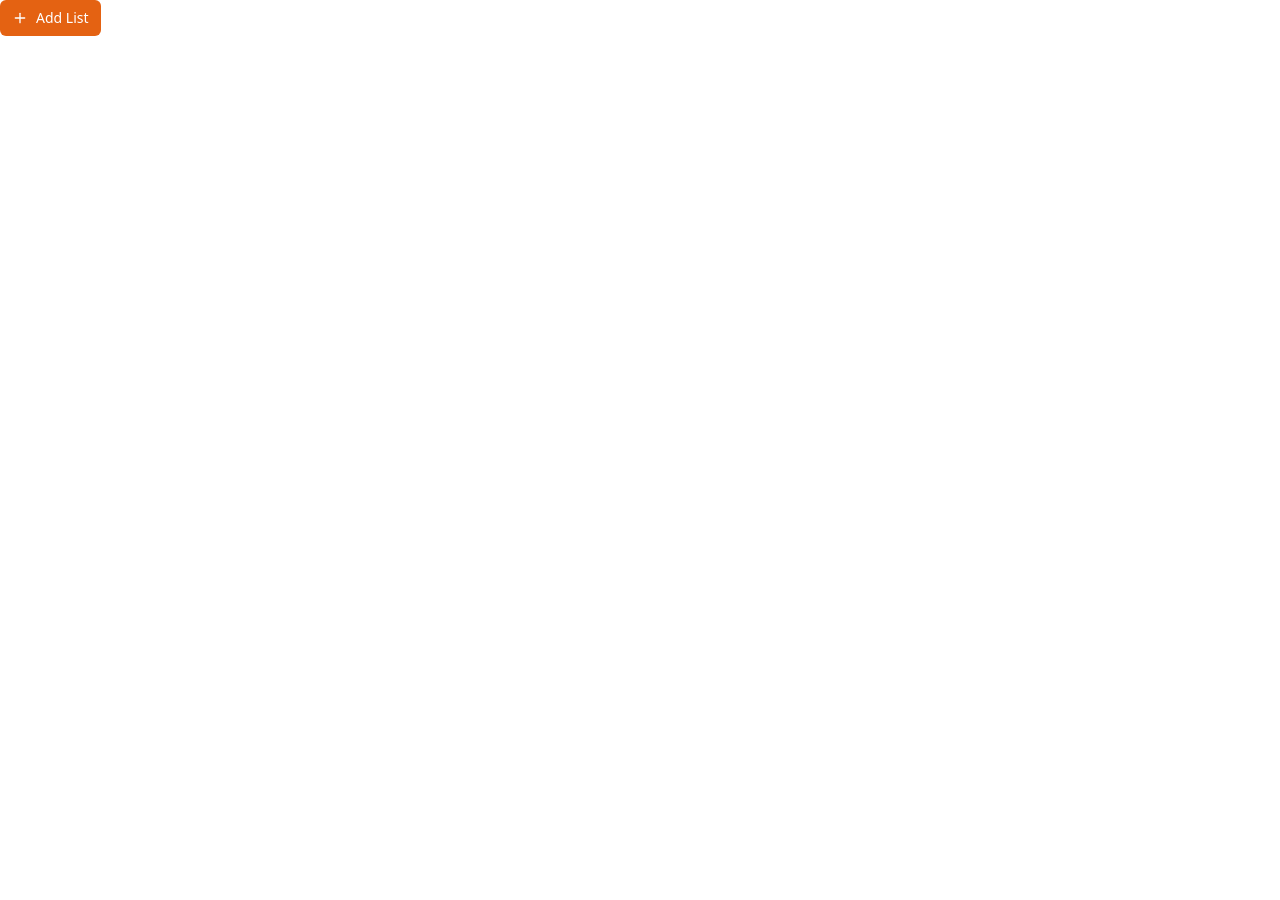
it: CreateListDialog › closes dialog when cancel button is clicked
What coordinates should you click on to do the following:
click the button "Add List"
I would click on:
 (50, 18)
Its box is x1=0 y1=0 x2=100 y2=36.
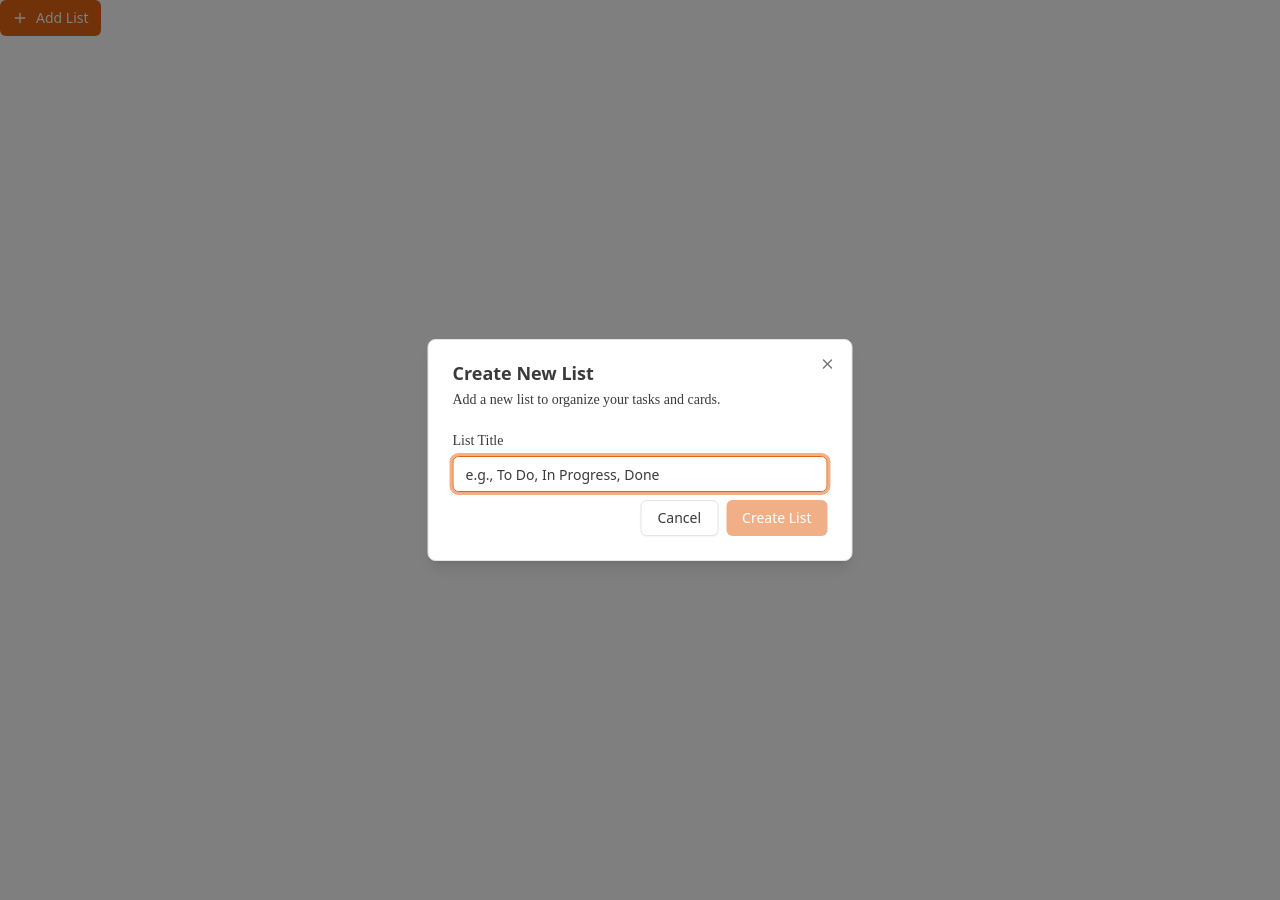
Result: the dialog is shown at x1=428 y1=339 x2=852 y2=561
What coordinates should you click on to do the following:
click the button "Cancel"
I would click on:
 (679, 518)
Its box is x1=640 y1=500 x2=718 y2=536.
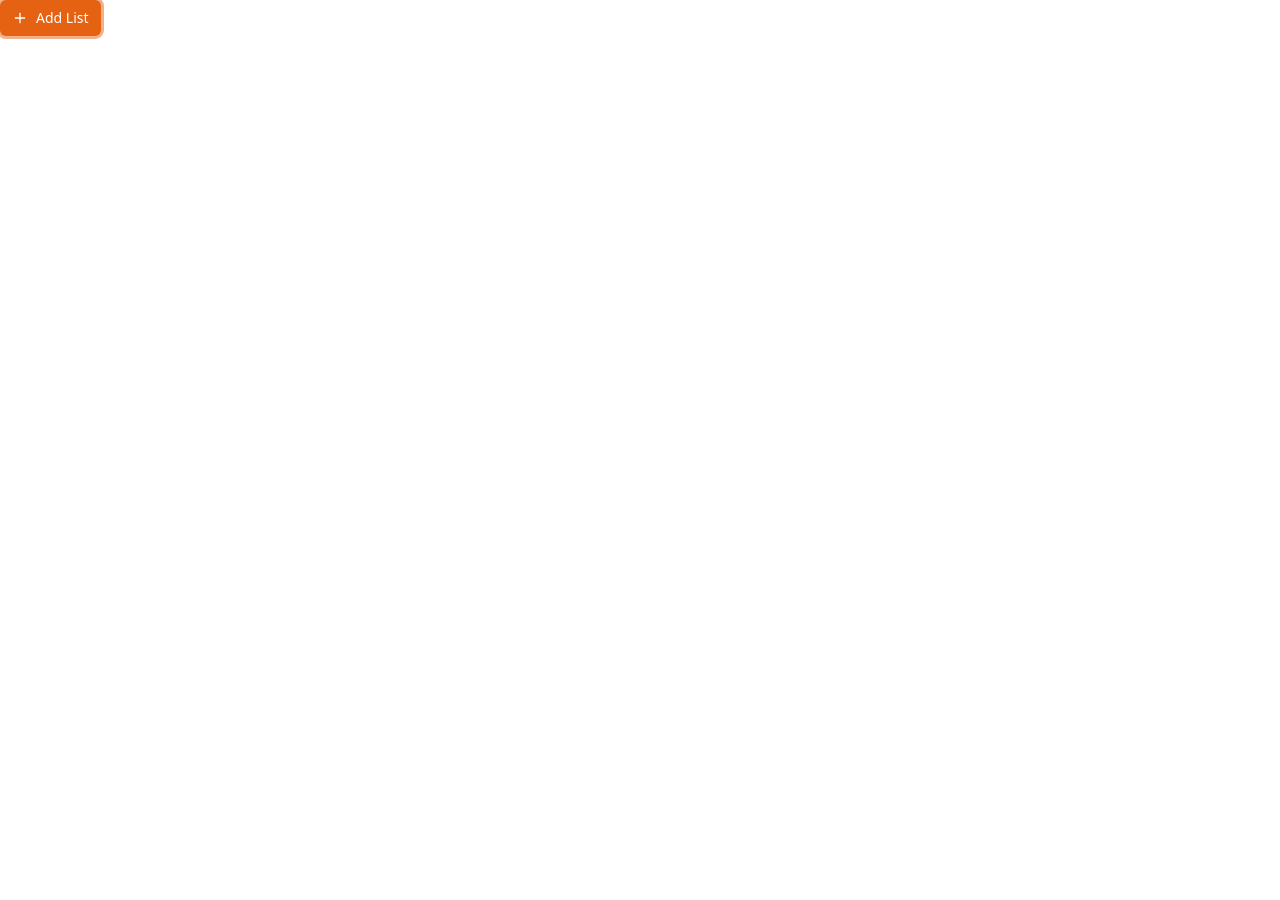
Result: the dialog is gone
